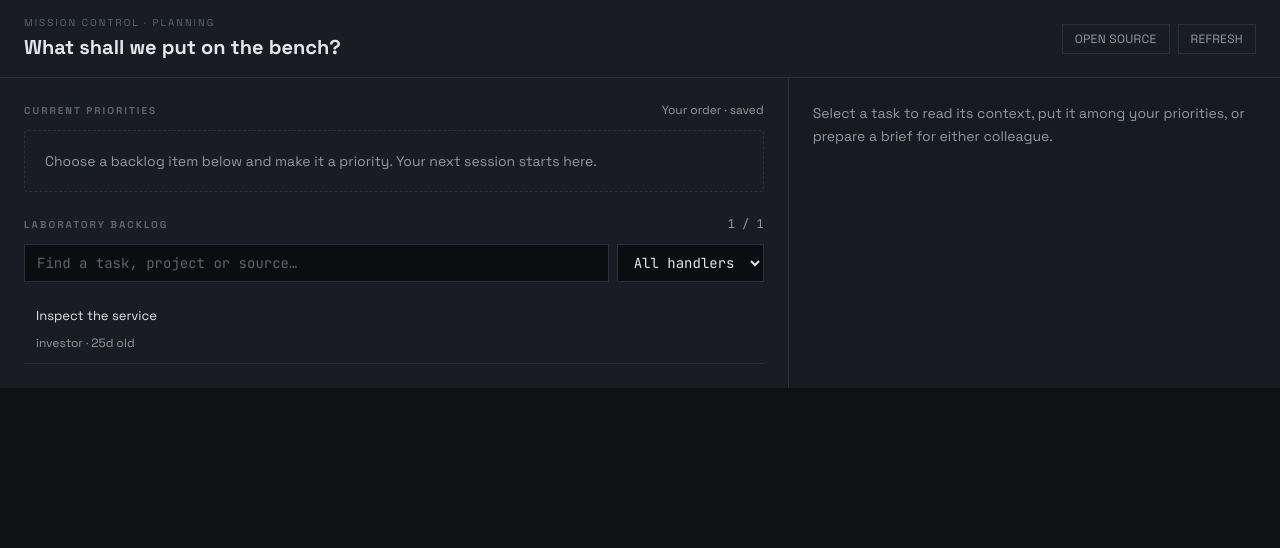
Test: Mission Control planning › saves a priority against the revision read, and retains the plan on conflicts
Click the button with class "backlog-row".
click(96, 316)  # box [24,294,764,364]
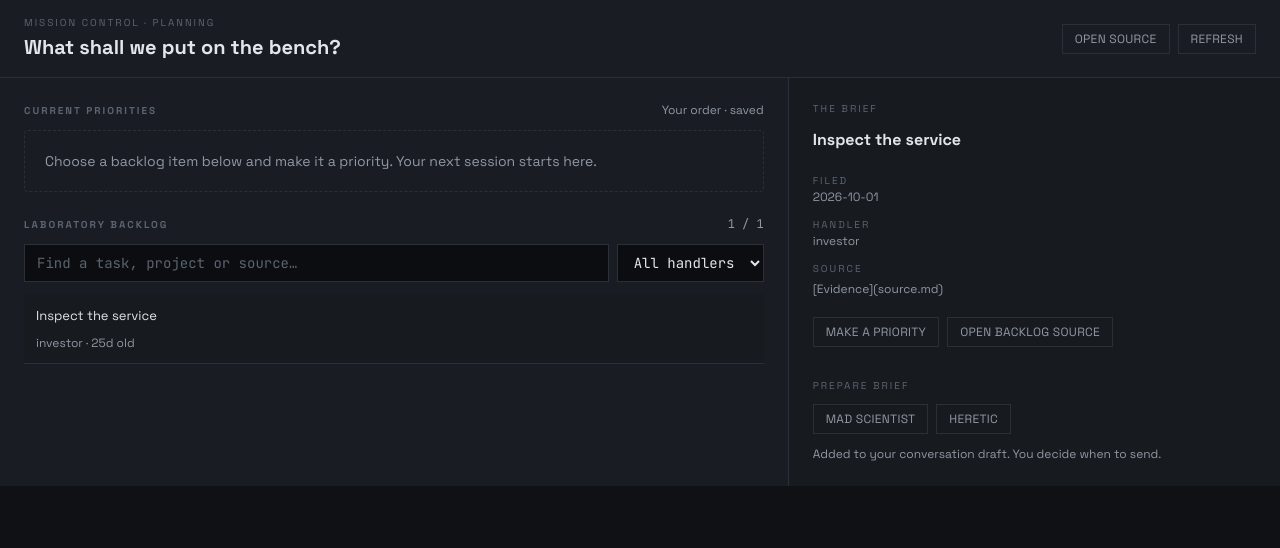
Click the button "Make a priority".
click(876, 332)  # box [813,317,939,347]
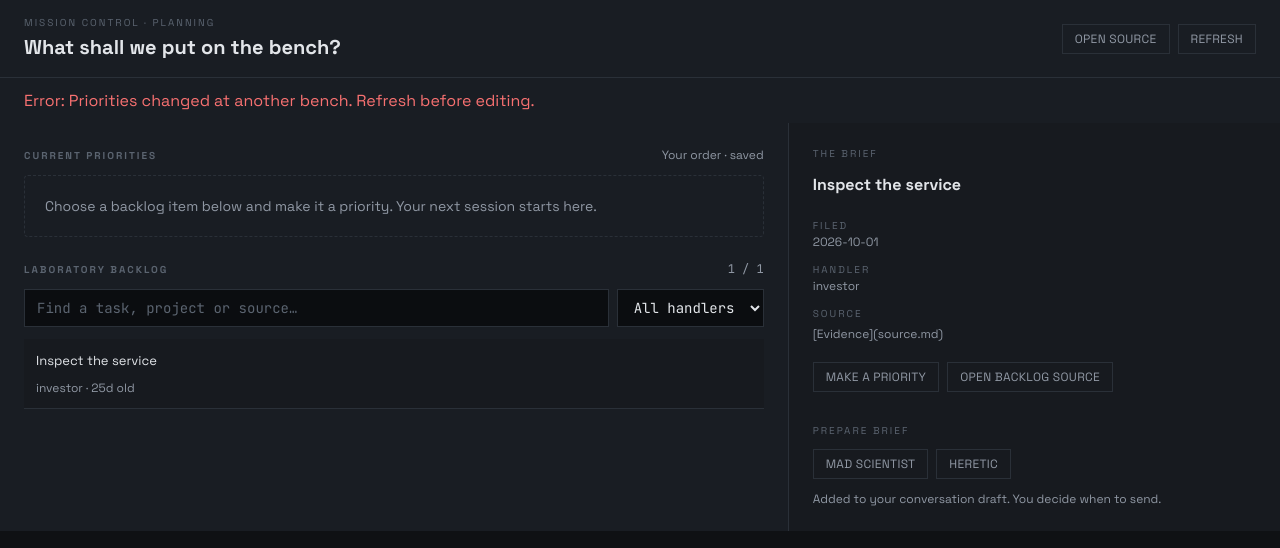
Expected: the text "Priorities changed at another bench" is shown, [24,90,535,111]
